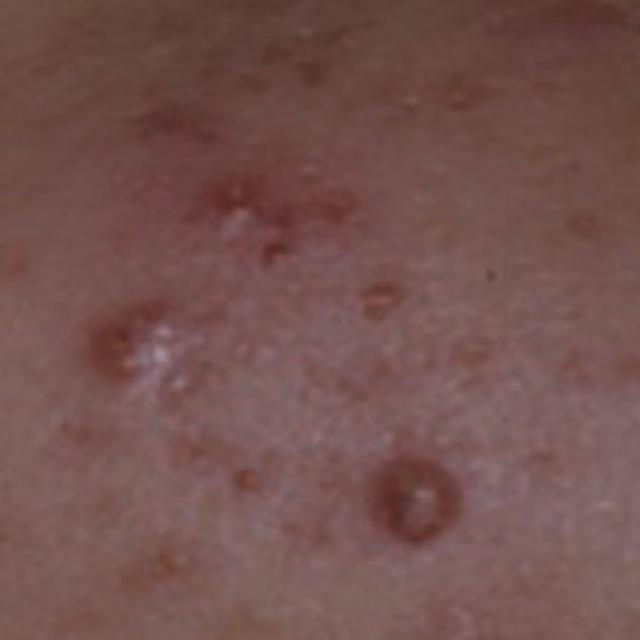acne: (127, 72, 416, 279), (69, 284, 300, 496), (356, 436, 486, 558)
